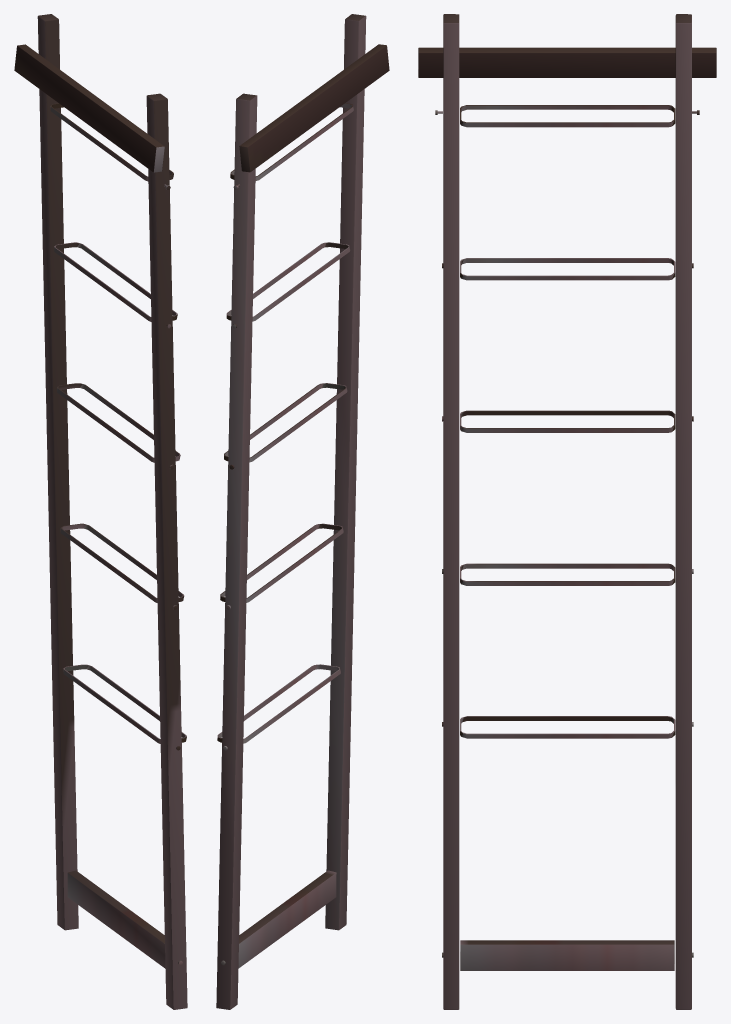
File: Ladder.fbx
3 views of the same model, side by side, from view 1: azimuth 30°, elevation 25°; view 2: azimuth 150°, elevation 25°; view 3: azimuth 270°, elevation 25° (orthographic). The views are drawn at different scales.
Visible parts, largest first — view 1: Ladder; view 2: Ladder; view 3: Ladder.
Part boxes in pixels (box(x1,y1,x2,y2)): Ladder: box(14, 14, 187, 1009); Ladder: box(216, 14, 389, 1009); Ladder: box(418, 14, 716, 1009).
Size of the model in its own units: 0.1763 by 2.79 by 0.7702.
